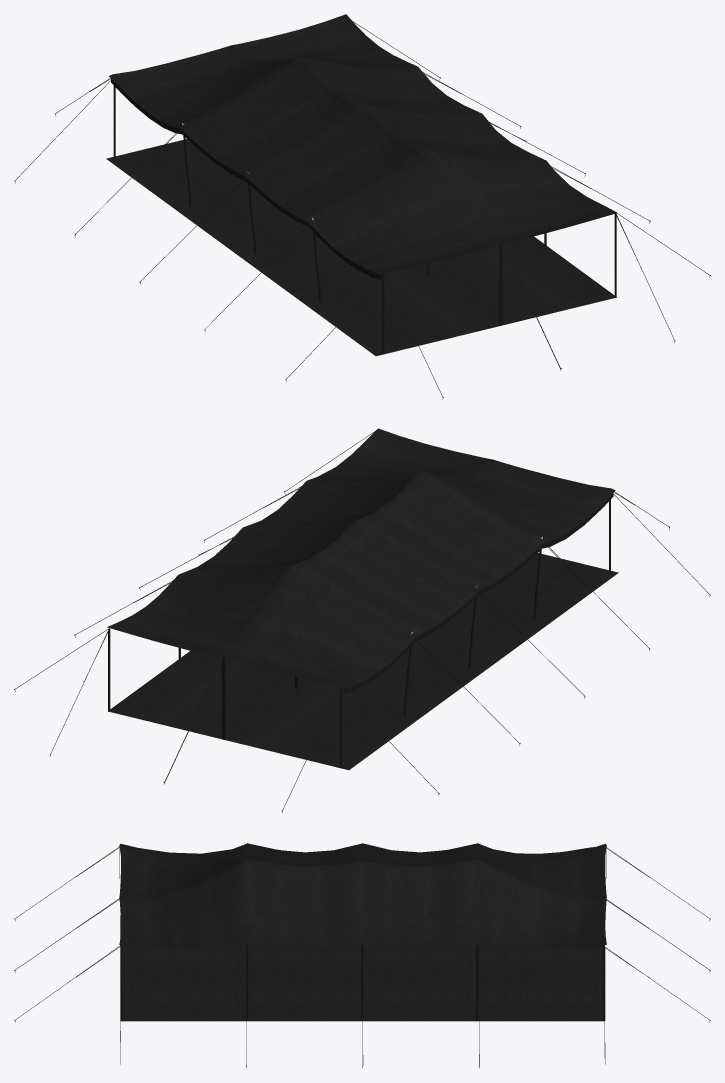
File: Pyramid of giza esearch Tent.fbx
The picture shows the model from 3 angles, top to bottom: view 1: azimuth 30°, elevation 25°; view 2: azimuth 150°, elevation 25°; view 3: azimuth 270°, elevation 25°; orthographic projection. The views are drawn at different scales.
Visible parts, largest first — view 1: Object004_Honeyview_dfghf_0, Object004_12 - Default_0, Object004_gjyde_0, Object004_Honeyview_Untitled_material_BaseColor_0, Object004_Honeyview_dfghf_0.001; view 2: Object004_Honeyview_dfghf_0, Object004_12 - Default_0, Object004_gjyde_0, Object004_Honeyview_Untitled_material_BaseColor_0, Object004_Honeyview_dfghf_0.001; view 3: Object004_Honeyview_dfghf_0, Object004_12 - Default_0, Object004_gjyde_0, Object004_Honeyview_Untitled_material_BaseColor_0.
Boxes of the visible parts, bbox=[...] form: Object004_Honeyview_dfghf_0: bbox=[109, 14, 617, 273]; Object004_12 - Default_0: bbox=[106, 139, 616, 356]; Object004_gjyde_0: bbox=[14, 21, 710, 399]; Object004_Honeyview_Untitled_material_BaseColor_0: bbox=[113, 45, 616, 353]; Object004_Honeyview_dfghf_0.001: bbox=[111, 79, 381, 279]; Object004_Honeyview_dfghf_0: bbox=[107, 428, 615, 688]; Object004_12 - Default_0: bbox=[109, 553, 618, 770]; Object004_gjyde_0: bbox=[14, 431, 710, 813]; Object004_Honeyview_Untitled_material_BaseColor_0: bbox=[108, 459, 610, 768]; Object004_Honeyview_dfghf_0.001: bbox=[343, 493, 613, 694]; Object004_Honeyview_dfghf_0: bbox=[119, 843, 606, 948]; Object004_12 - Default_0: bbox=[120, 915, 604, 1021]; Object004_gjyde_0: bbox=[14, 845, 710, 1068]; Object004_Honeyview_Untitled_material_BaseColor_0: bbox=[120, 845, 605, 1020].
Bounding box in the file's own units: 329 × 89.34 × 496.
5 materials, 4 textured.
